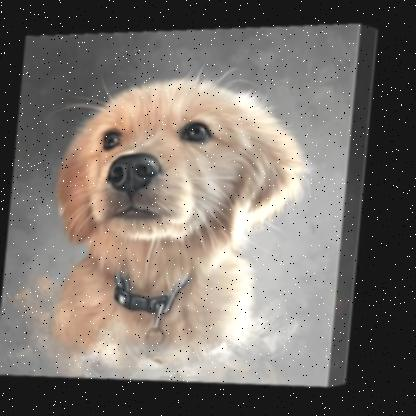dog: (24, 66, 320, 367)
